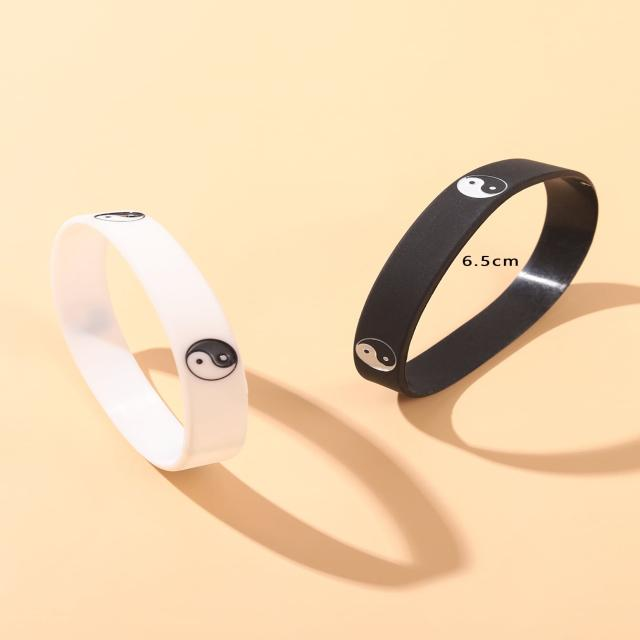bracelet: (287, 65, 640, 503), (23, 149, 322, 540)
